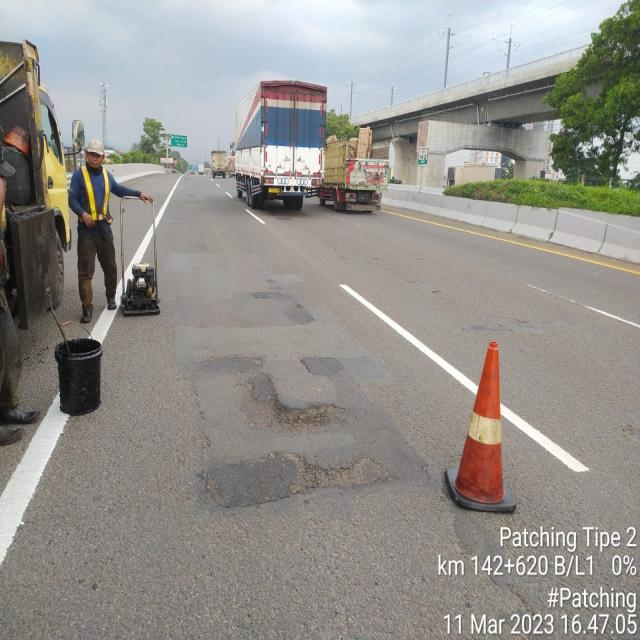Buraco: (238, 378, 348, 436), (277, 449, 393, 497)
